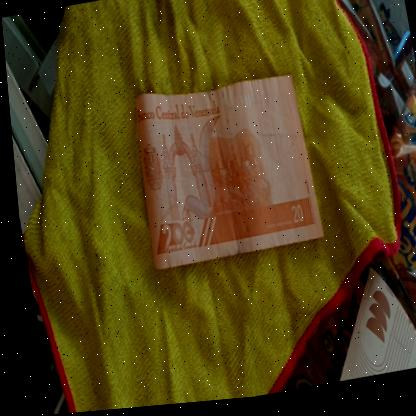twenty-back-vef: (120, 70, 321, 275)
